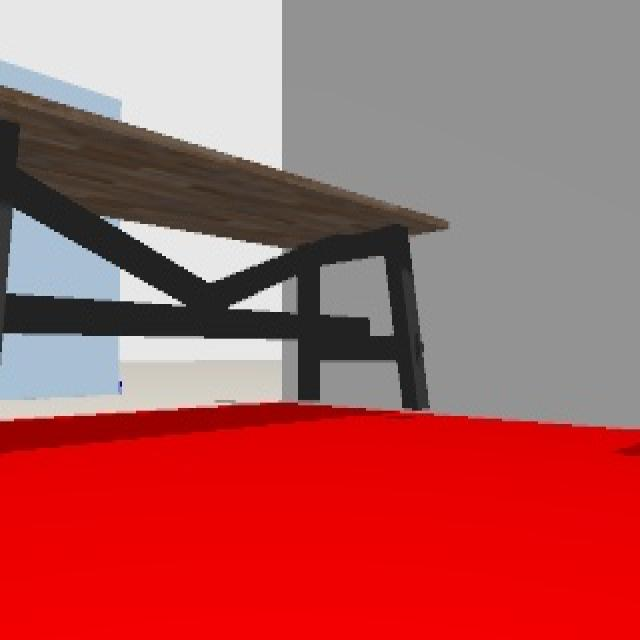dining: (0, 84, 448, 418)
